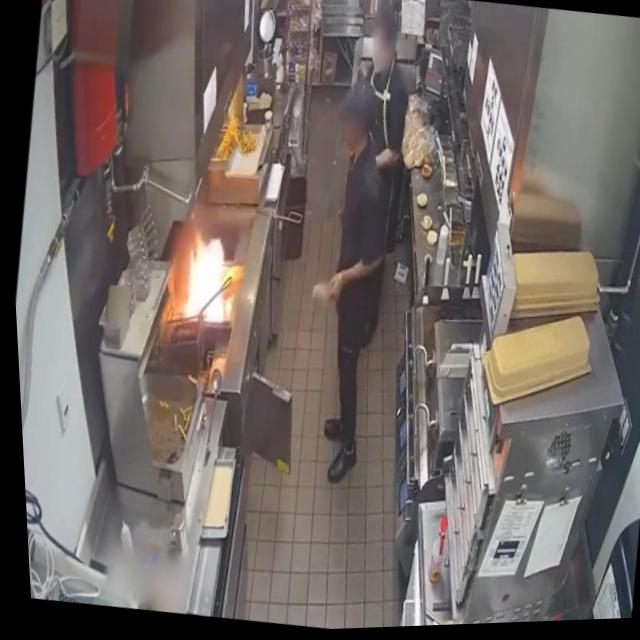fire: (163, 215, 242, 332)
